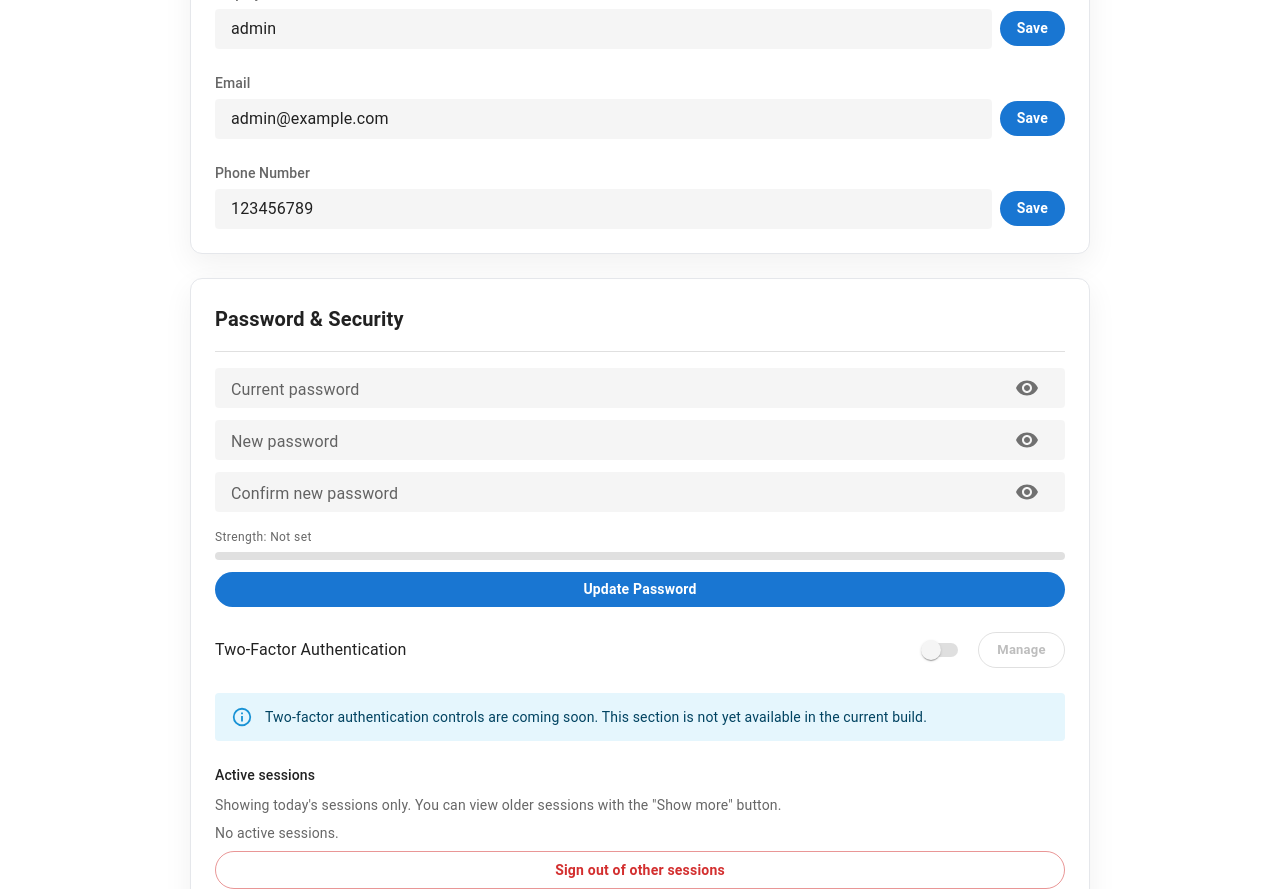
Test: AdminProfile › shows validation error when passwords do not match
The width and height of the screenshot is (1280, 889).
(page scrolled)
Expected: the heading "Password & Security" is shown, [215, 302, 404, 334]
Type "Password123!" into the password field labelled "New password".
click(615, 440); type("Password123!")  # box [231, 428, 999, 451]
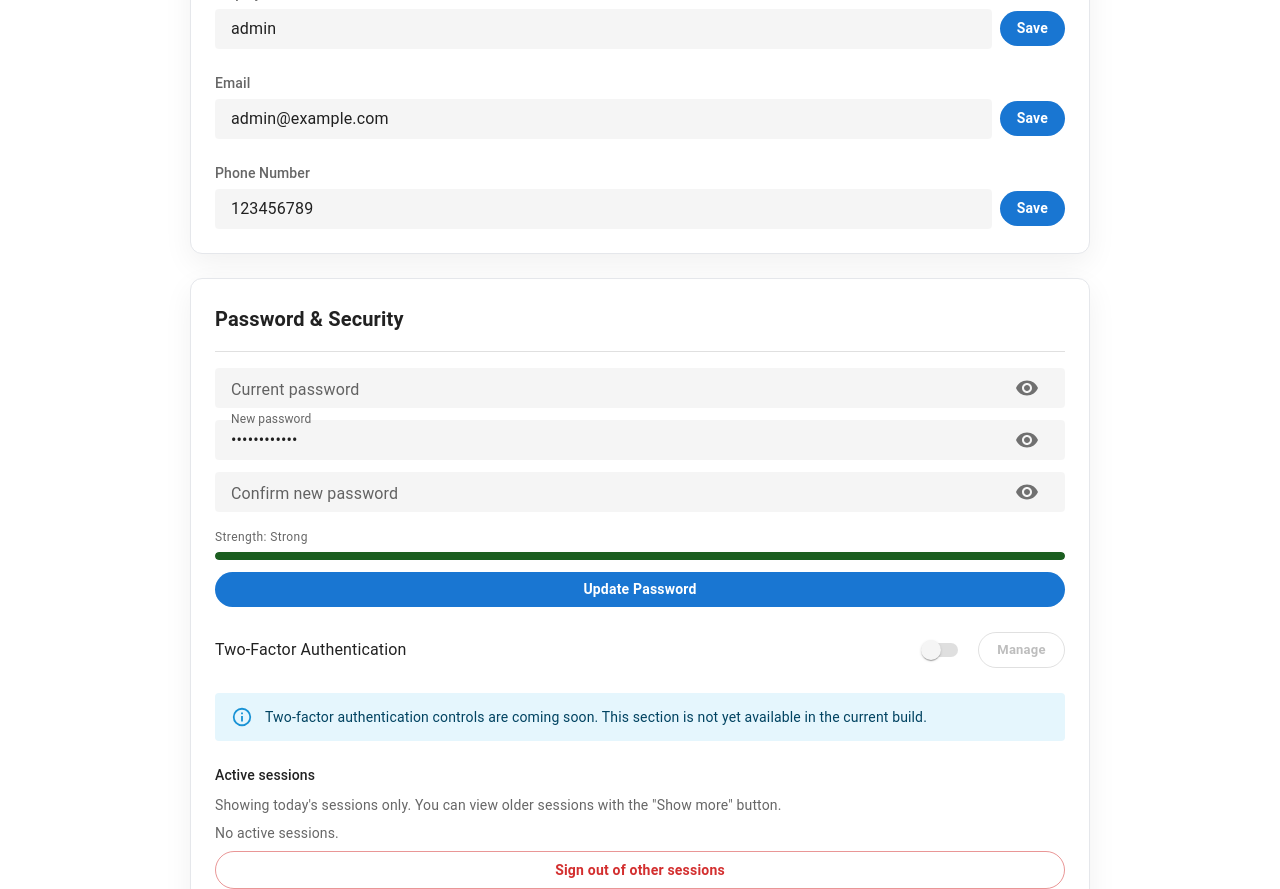
Type "Mismatch" into the password field labelled "Confirm new password".
click(615, 492); type("Mismatch")  # box [231, 480, 999, 503]
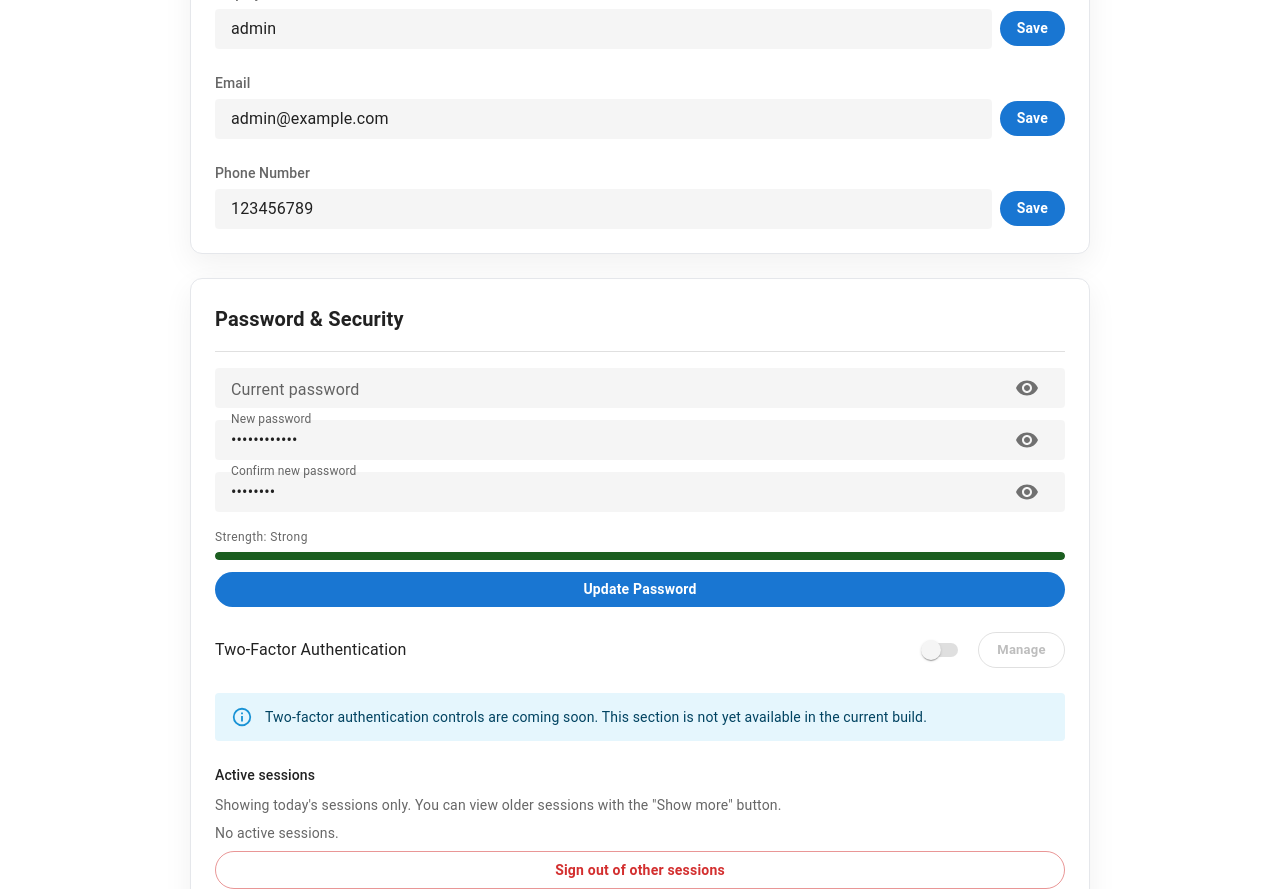
Click the button "Update Password".
click(640, 589)  # box [215, 572, 1065, 607]
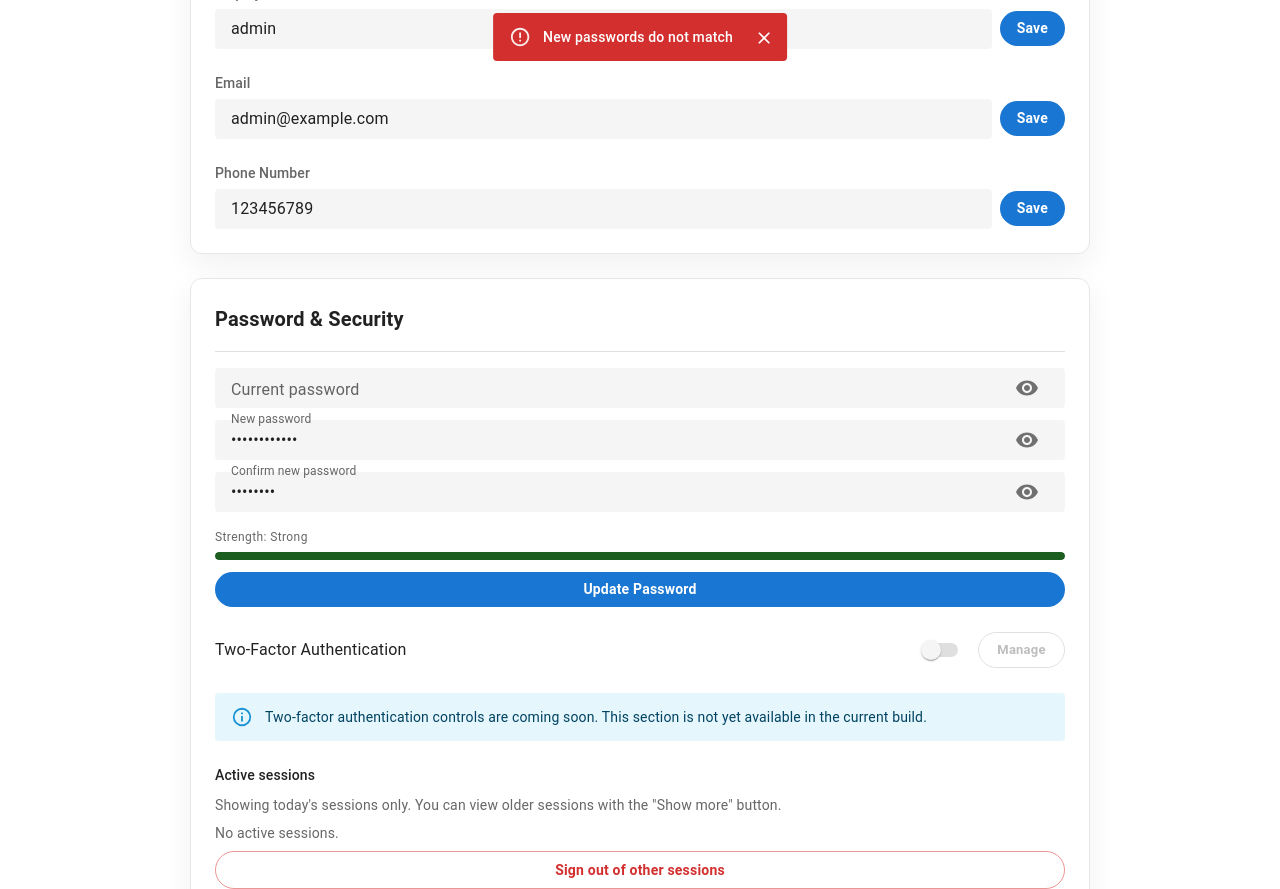
Expected: the text "New passwords do not match" is shown, [543, 29, 733, 45]
